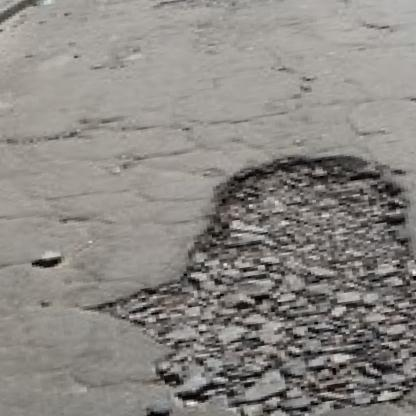pothole: (70, 134, 416, 416), (100, 0, 373, 27)
